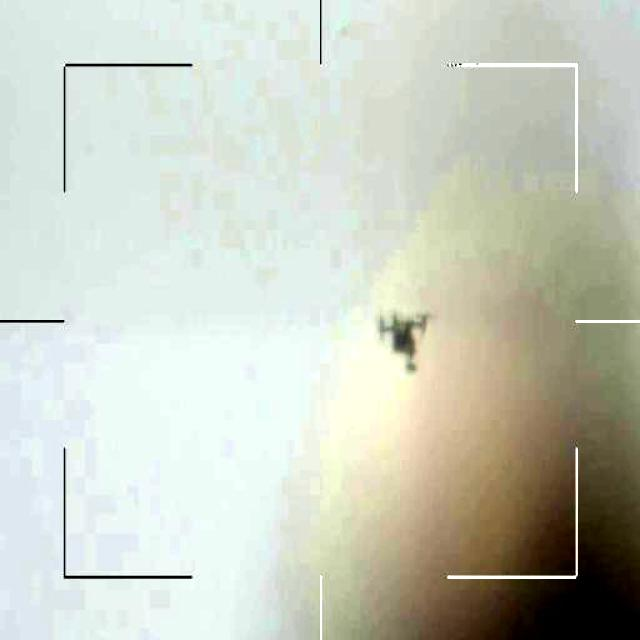bird: (370, 299, 432, 369)
